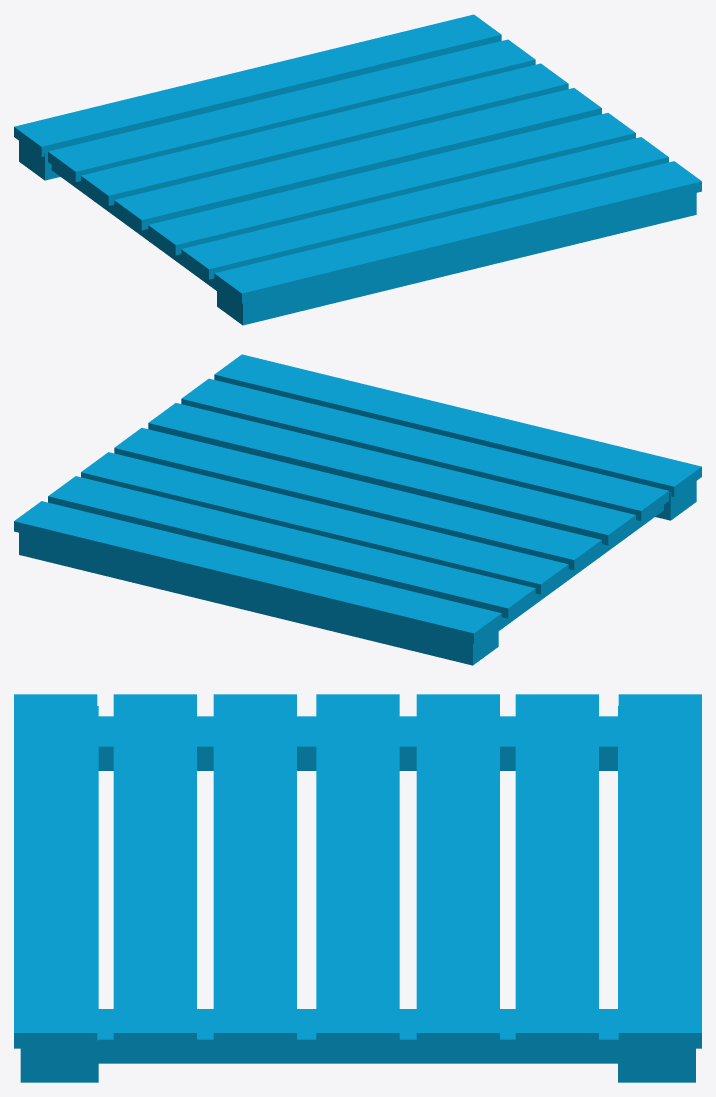
Rendered from Bench_04_Lod0.fbx.
The picture shows the model from 3 angles, top to bottom: view 1: azimuth 30°, elevation 25°; view 2: azimuth 150°, elevation 25°; view 3: azimuth 270°, elevation 25°; orthographic projection. The views are drawn at different scales.
Parts seen in each view (by area): view 1: Bench_04_Lod0; view 2: Bench_04_Lod0; view 3: Bench_04_Lod0.
Part boxes in pixels (left/top/right/bottom): Bench_04_Lod0: left=14, top=14, right=701, bottom=325; Bench_04_Lod0: left=14, top=354, right=701, bottom=665; Bench_04_Lod0: left=14, top=694, right=701, bottom=1082.
Bounding box in the file's own units: 90.95 × 6.5 × 78.06.
